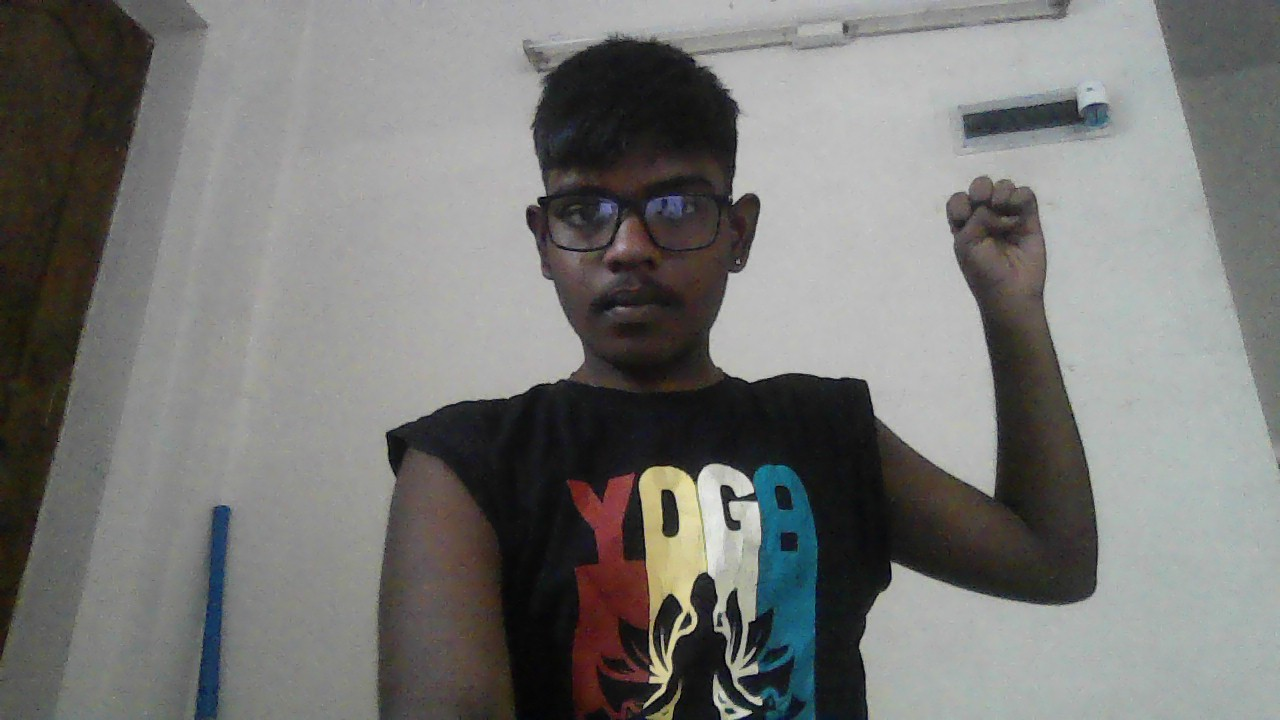E: (947, 178, 1049, 326)
